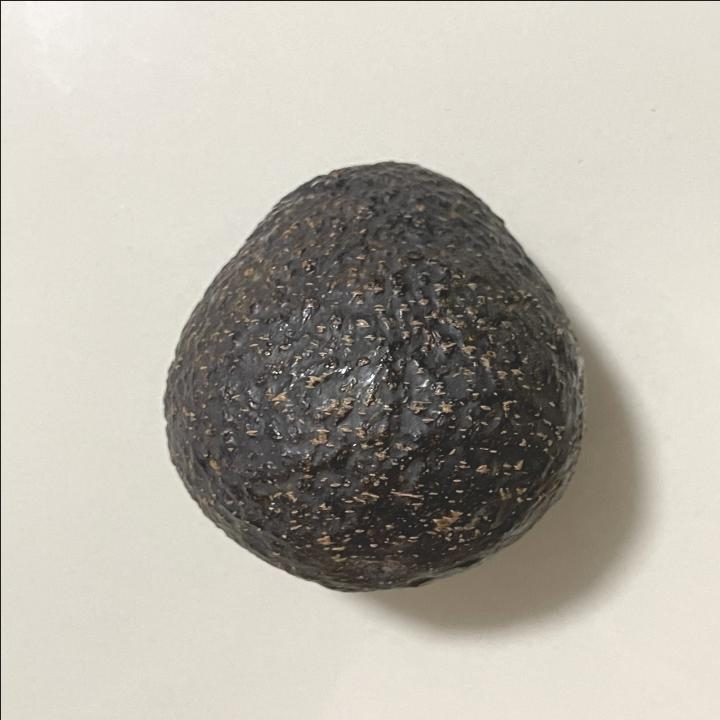Level3: (151, 148, 596, 601)
